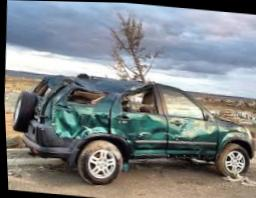Dickey: (28, 73, 66, 122)
Door: (103, 84, 217, 163)
Fender: (45, 87, 117, 136)
